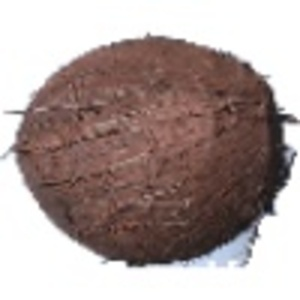coco: (2, 36, 299, 270)
